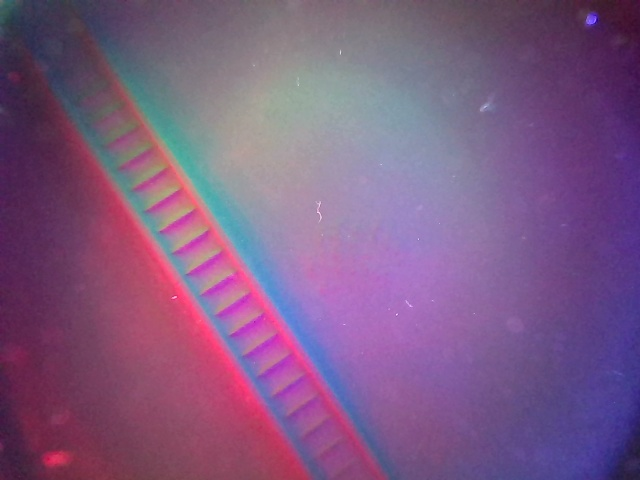contact: (24, 0, 385, 479)
